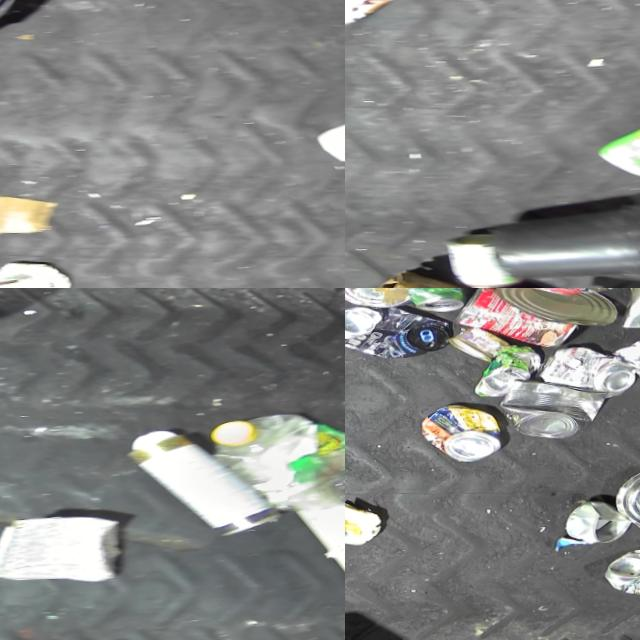can: (122, 420, 286, 537), (499, 371, 612, 438), (455, 288, 581, 347), (345, 297, 452, 358), (540, 339, 639, 395), (421, 398, 505, 461), (444, 225, 527, 288), (497, 288, 620, 324), (474, 340, 545, 395), (569, 494, 635, 541), (450, 321, 512, 361), (613, 454, 640, 530), (604, 540, 640, 595), (406, 288, 473, 311), (345, 288, 412, 307)
plastic_bottle: (204, 402, 345, 512)
